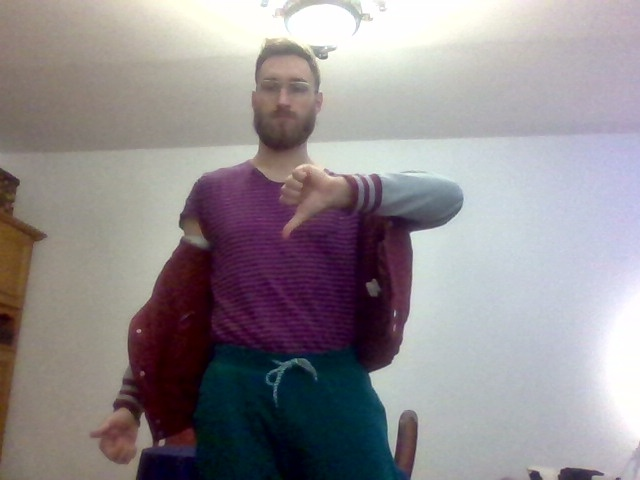ThumbsDown: (279, 164, 330, 240)
